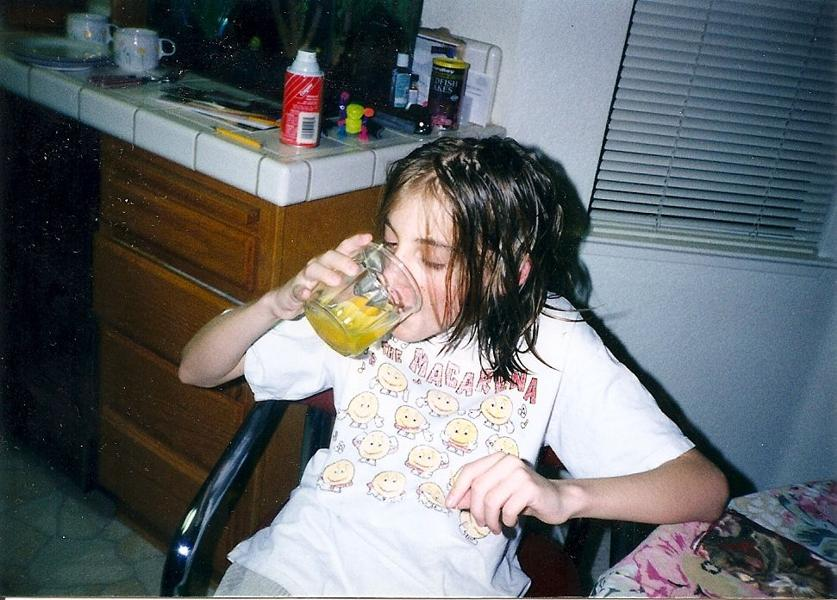person: (177, 133, 729, 600)
